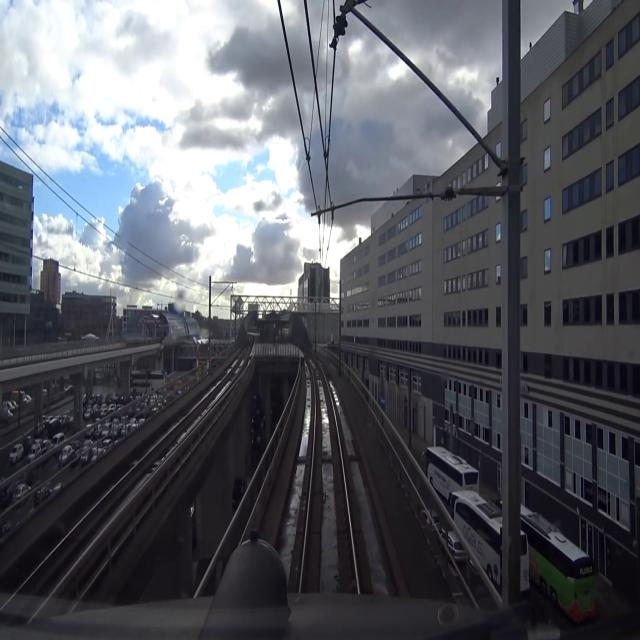rail-track: (0, 348, 248, 626), (303, 360, 355, 588)
